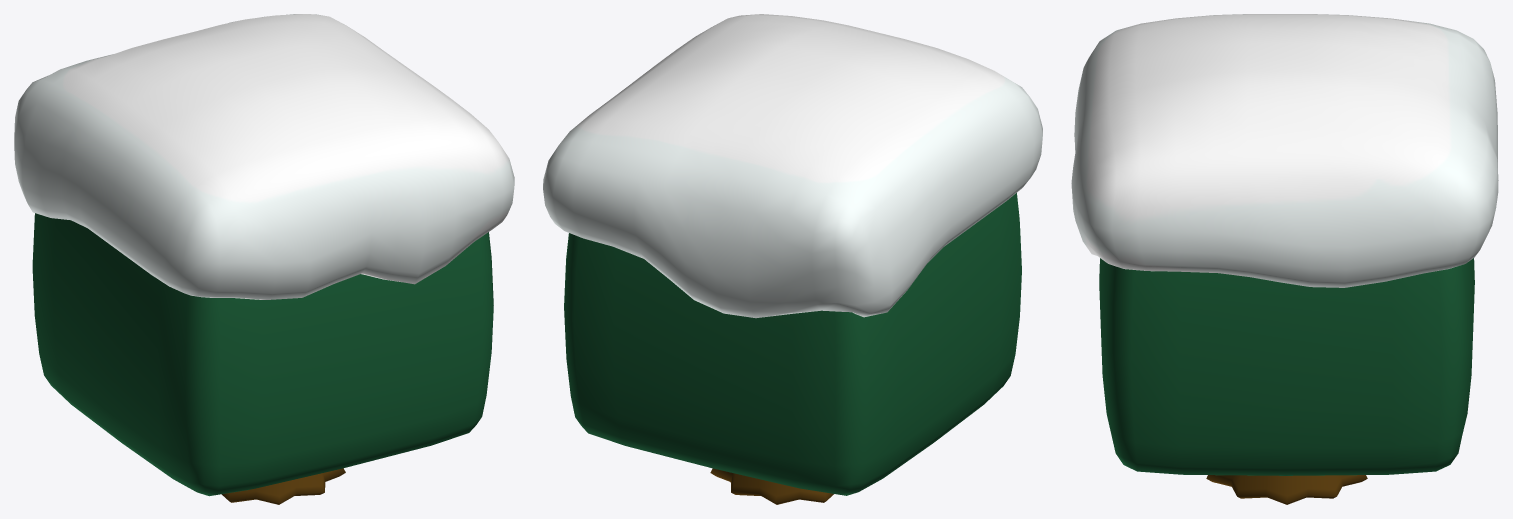
File: Tree2_V1.fbx
The picture shows the model from 3 angles, left to right: view 1: azimuth 30°, elevation 25°; view 2: azimuth 150°, elevation 25°; view 3: azimuth 270°, elevation 25°; orthographic projection. The views are drawn at different scales.
Parts seen in each view (by area): view 1: pCube2; view 2: pCube2; view 3: pCube2.
Part boxes in pixels (x1=…): pCube2: x1=14, y1=14, x2=514, y2=504; pCube2: x1=543, y1=14, x2=1042, y2=504; pCube2: x1=1071, y1=14, x2=1498, y2=504.
Bounding box in the file's own units: 20.49 × 23.08 × 21.5.
1 material, 1 textured.
